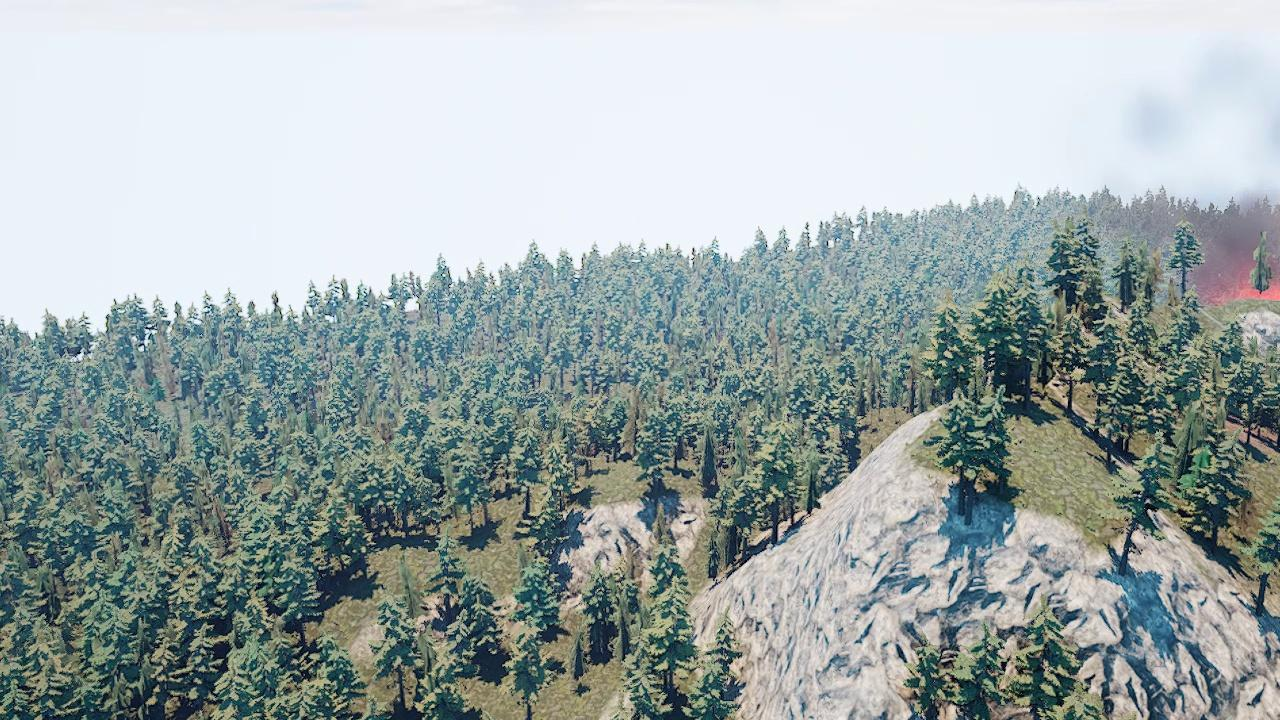smoke: (1140, 55, 1273, 300)
